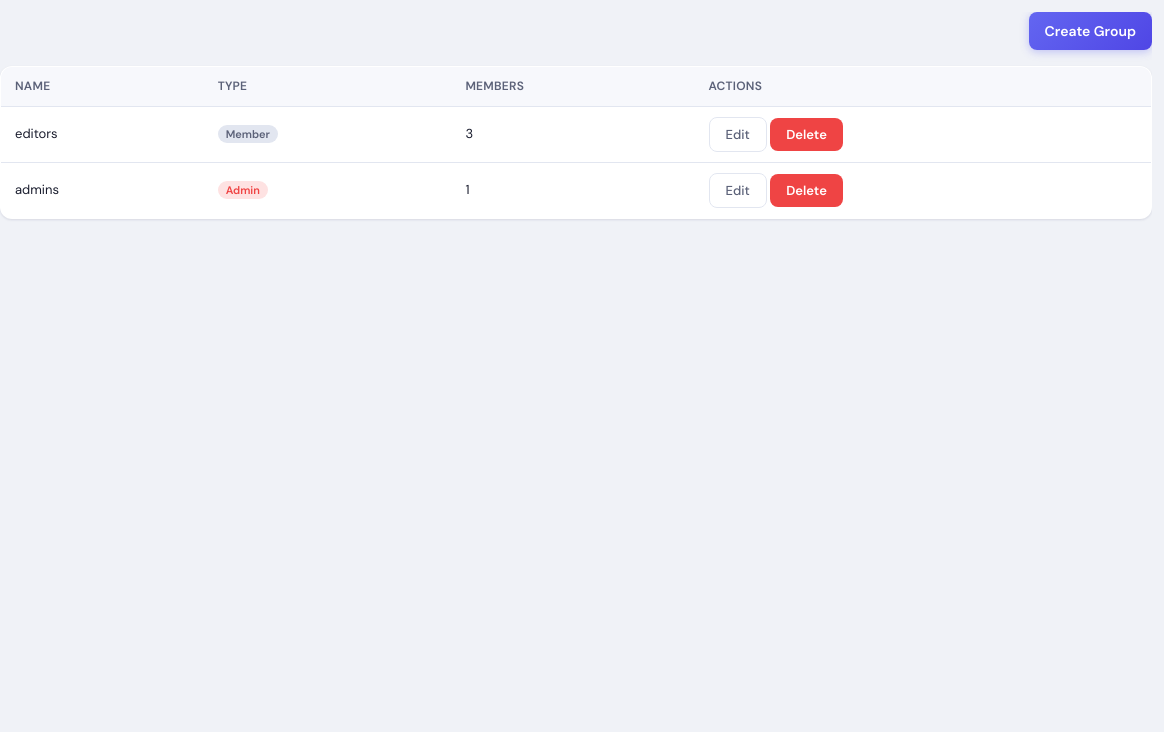
Test: GroupsTab › shows generic error toast on non-409 delete error
Expected: the text "editors" is shown, [0, 107, 204, 163]
Click the button "Delete" in the row of "editors" at [807, 135], box [770, 118, 843, 151]
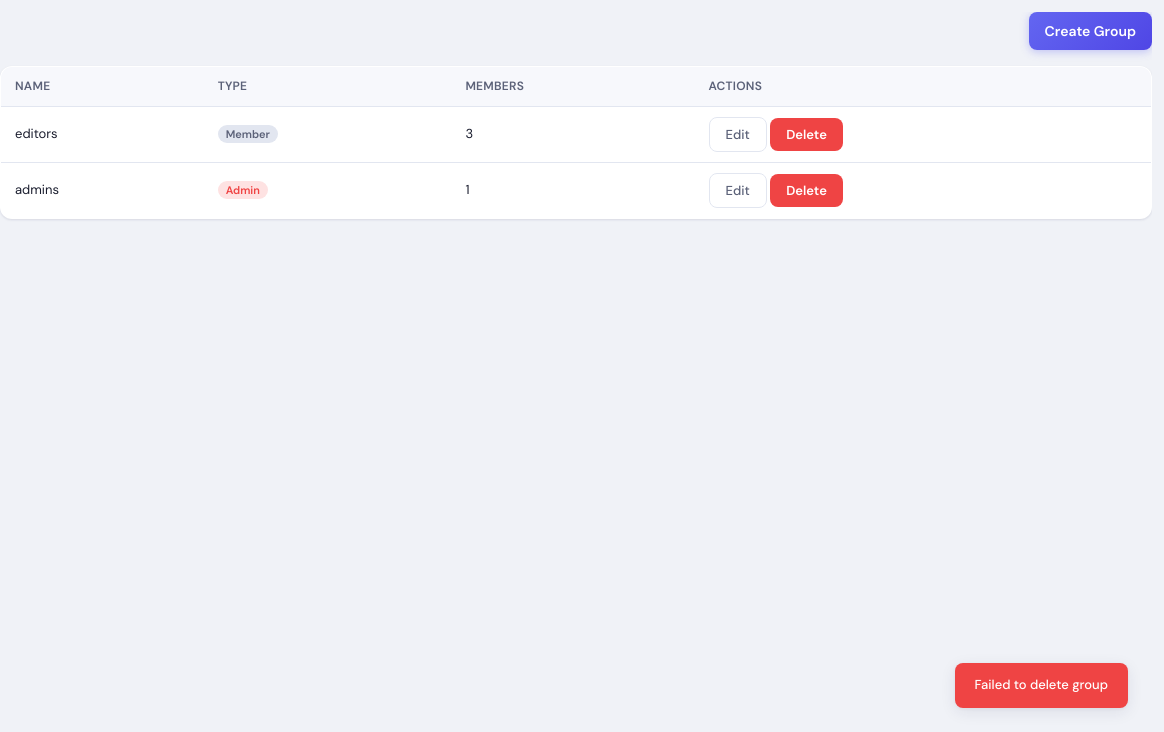
Now the text "Failed to delete group" is shown, box [954, 663, 1128, 708]
